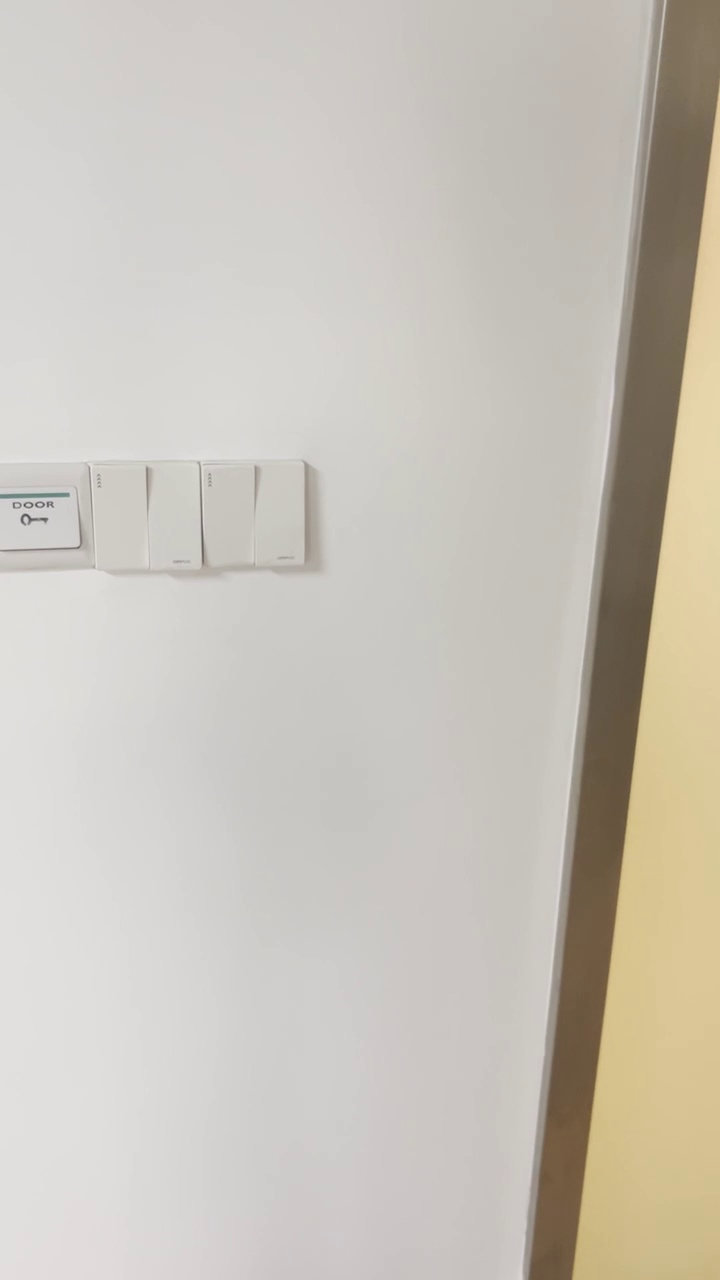button: (91, 459, 205, 573), (201, 457, 310, 570)
